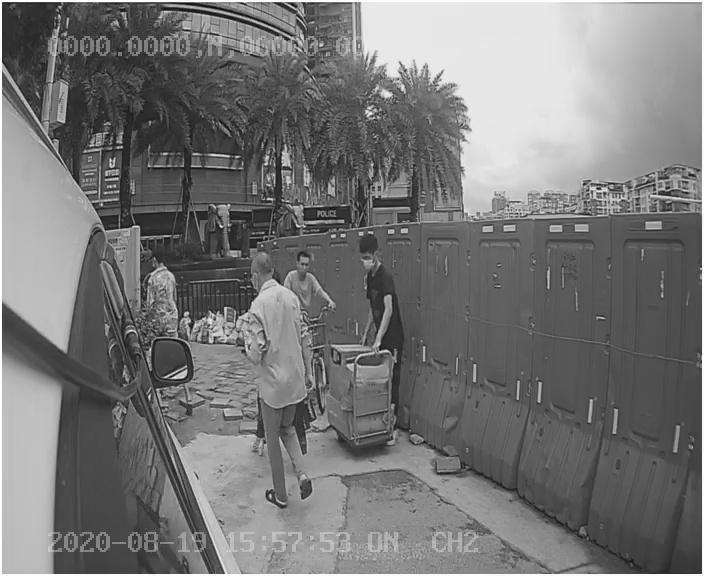person: (236, 251, 318, 515)
